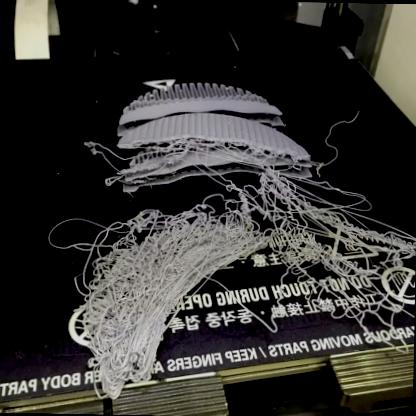fail: (56, 195, 245, 399), (251, 158, 416, 347)
